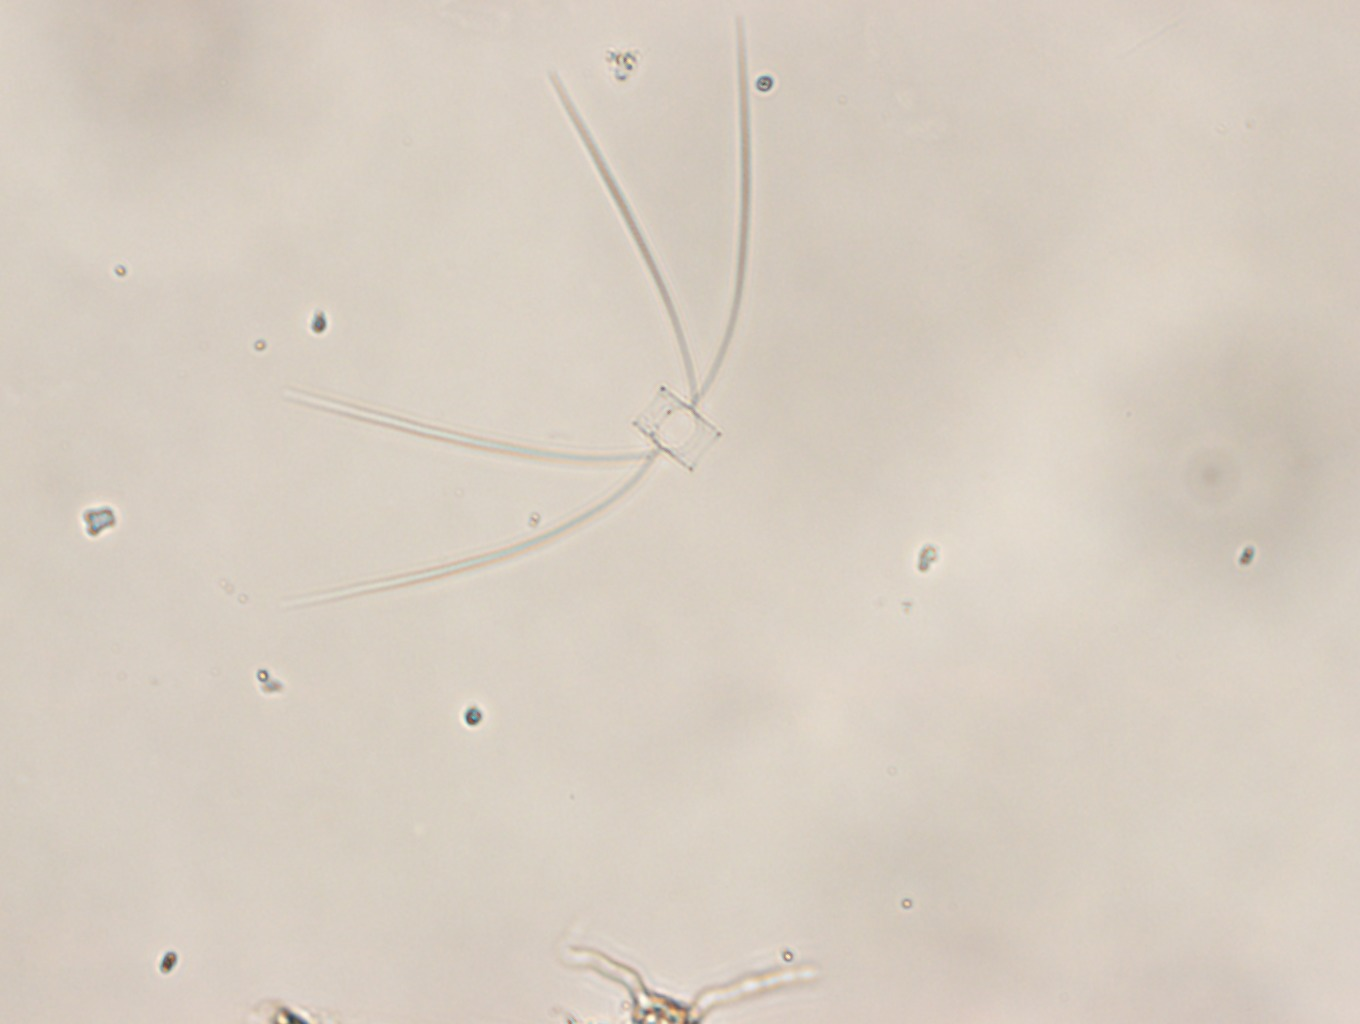chaetoceros: (282, 13, 749, 607)
